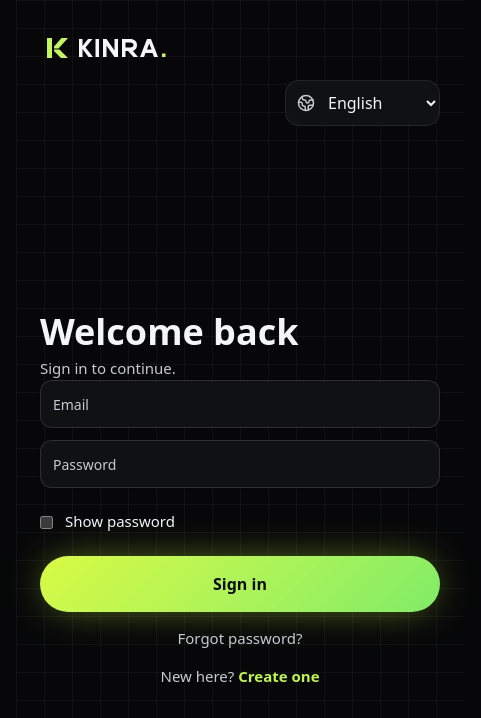
Scenario: opens explicit in mode and preserves the Business destination when switching
This screenshot has width=481, height=718.
Expected: the heading "Welcome back" is shown, [40,307,298,356]
Click the button "New here? Create one".
click(240, 677)  # box [40,666,440,688]
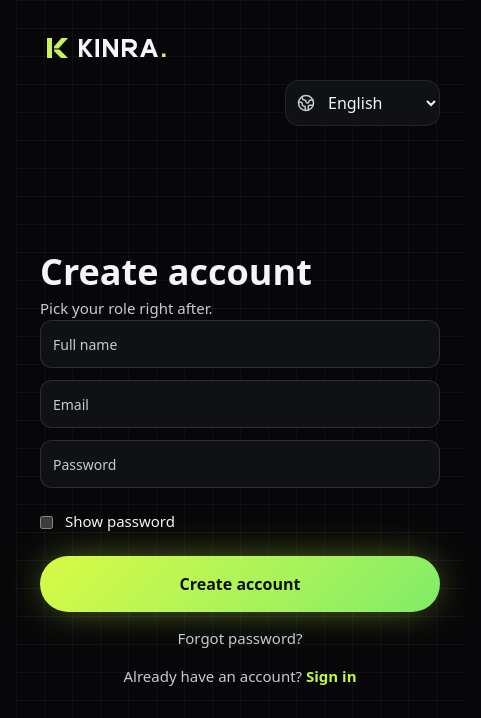
Expected: the heading "Create account" is shown, [40,247,312,296]
